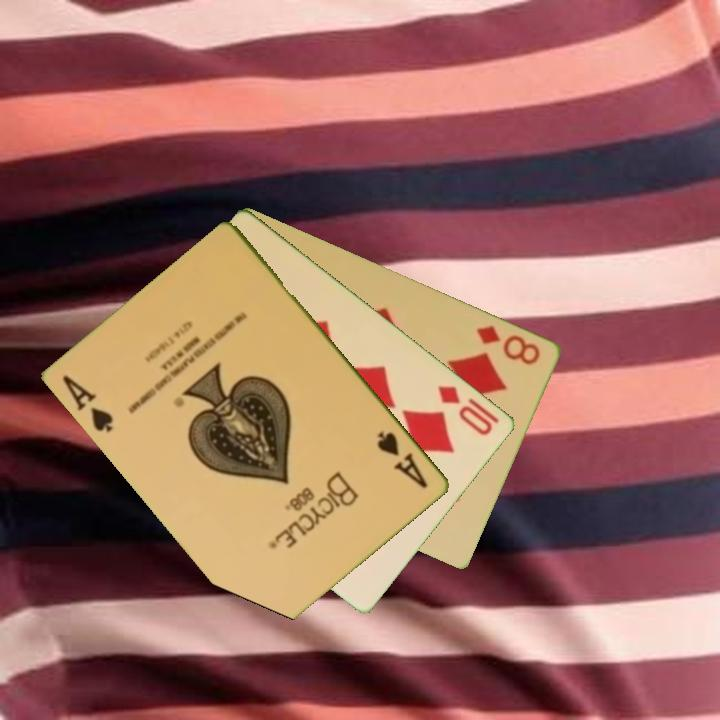10d: (434, 381, 497, 438)
8d: (473, 321, 544, 368)
As: (59, 371, 117, 436), (374, 428, 432, 491)
